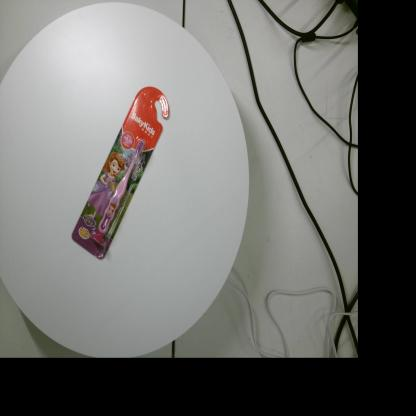Personal Hygiene: (71, 86, 168, 260)
